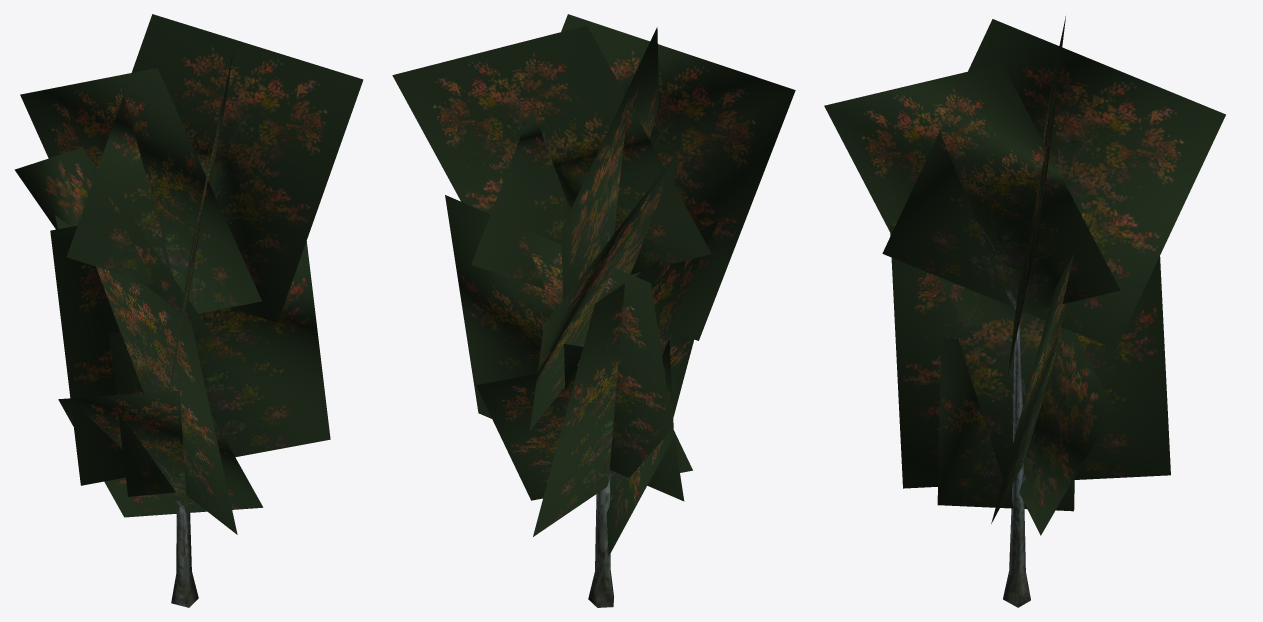
Rendered from tree.glb.
3 views of the same model, side by side, from view 1: azimuth 30°, elevation 25°; view 2: azimuth 150°, elevation 25°; view 3: azimuth 270°, elevation 25° (orthographic). The views are drawn at different scales.
Visible parts, largest first — view 1: XT_CT_POPLARS_1C_JG_00; view 2: XT_CT_POPLARS_1C_JG_00; view 3: XT_CT_POPLARS_1C_JG_00.
Part boxes in pixels (<box>): XT_CT_POPLARS_1C_JG_00: <box>14,14,363,607</box>; XT_CT_POPLARS_1C_JG_00: <box>392,14,795,607</box>; XT_CT_POPLARS_1C_JG_00: <box>824,16,1225,607</box>.
Bounding box in the file's own units: 11.25 × 20.4 × 13.49.
2 materials, 2 textured.
